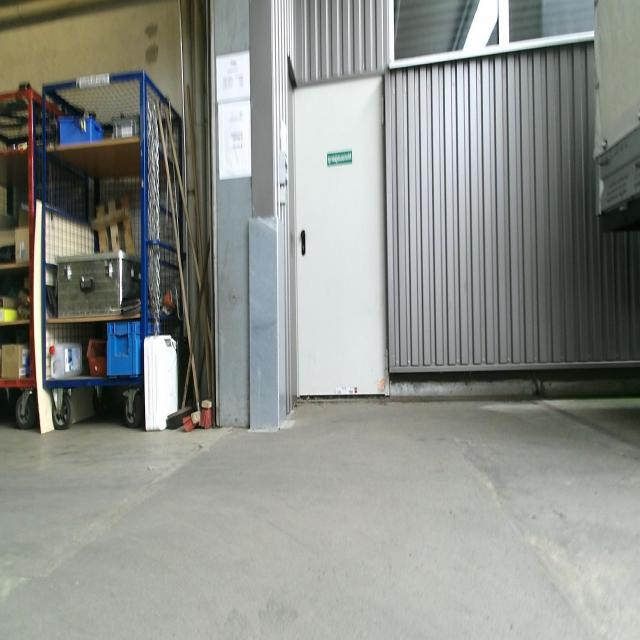small_load_carrier: (103, 320, 162, 380), (55, 115, 103, 147)
